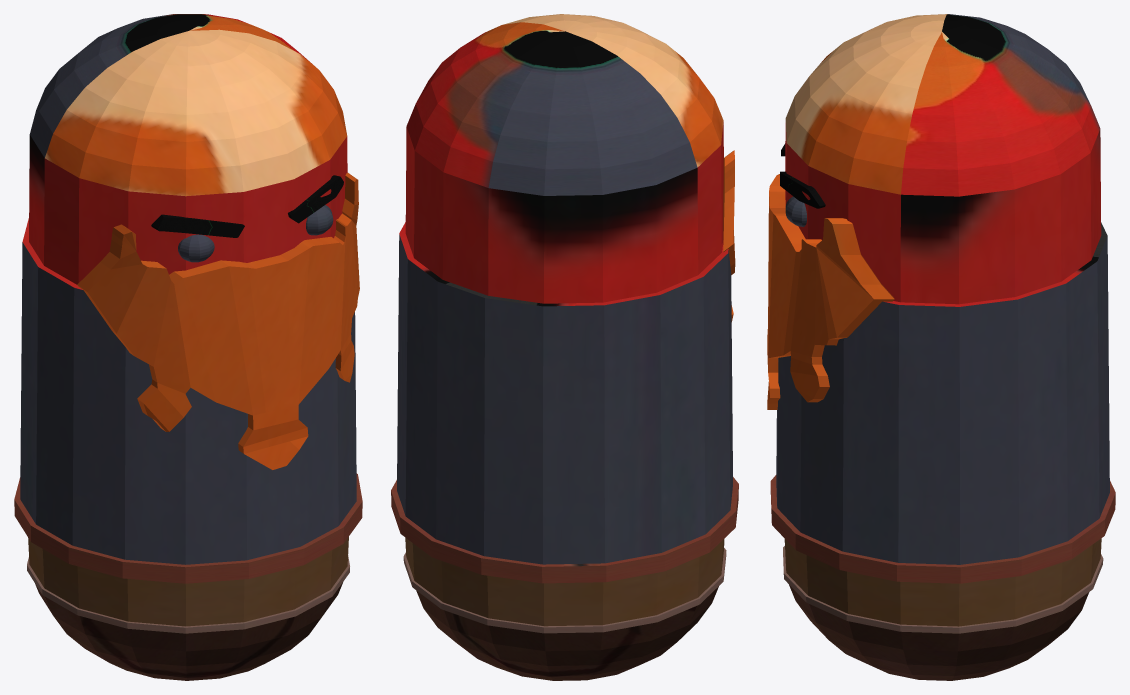
File: VikingoModel.fbx
3 views of the same model, side by side, from view 1: azimuth 30°, elevation 25°; view 2: azimuth 150°, elevation 25°; view 3: azimuth 270°, elevation 25° (orthographic).
Visible parts, largest first — view 1: Vikingo_Model; view 2: Vikingo_Model; view 3: Vikingo_Model.
Part boxes in pixels (x1,y1,x2,y2): Vikingo_Model: (14, 14, 362, 680); Vikingo_Model: (391, 14, 738, 680); Vikingo_Model: (767, 14, 1115, 680).
Bounding box in the file's own units: 1 × 2 × 1.
